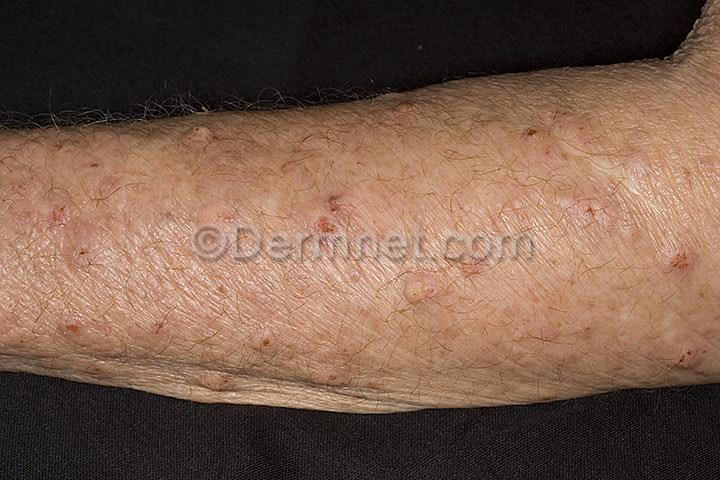Eczema: (181, 266, 473, 400), (534, 109, 713, 311), (0, 233, 181, 371), (93, 118, 281, 218), (462, 293, 612, 393), (437, 100, 541, 222), (272, 148, 391, 238), (624, 303, 720, 388)
